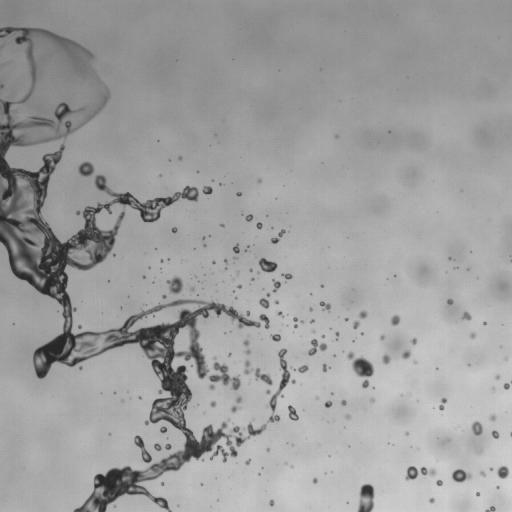droplet: (357, 484, 374, 511), (166, 276, 183, 294), (258, 257, 277, 273), (308, 339, 327, 355), (451, 469, 472, 482), (0, 78, 15, 95), (78, 162, 94, 176), (259, 292, 270, 308), (497, 465, 509, 478), (471, 421, 482, 435), (288, 405, 298, 420), (320, 301, 331, 311), (272, 279, 280, 292), (295, 365, 308, 373), (390, 315, 400, 325), (202, 186, 212, 194), (382, 354, 390, 364), (270, 334, 281, 341), (358, 310, 367, 318), (462, 312, 471, 320), (402, 350, 410, 359), (282, 273, 292, 280), (503, 381, 511, 389), (491, 430, 499, 438), (322, 363, 329, 372), (485, 505, 495, 511), (245, 214, 253, 221), (324, 400, 332, 407), (154, 443, 161, 451), (233, 244, 239, 253), (353, 320, 359, 329), (489, 414, 496, 421), (160, 426, 167, 433), (164, 443, 171, 450), (256, 222, 262, 229), (277, 310, 283, 317), (171, 227, 177, 233), (447, 299, 453, 305), (411, 338, 417, 344), (210, 401, 216, 407), (480, 470, 486, 476), (344, 414, 351, 419), (269, 499, 274, 506), (0, 63, 6, 68), (470, 332, 475, 338), (245, 459, 250, 465), (436, 480, 442, 485), (341, 400, 346, 405), (312, 478, 317, 483), (429, 498, 434, 503), (0, 43, 4, 49), (335, 332, 339, 338), (380, 334, 384, 340), (236, 192, 241, 196), (237, 284, 242, 288), (266, 389, 270, 394), (370, 397, 374, 402), (478, 448, 482, 453), (178, 156, 182, 160), (190, 287, 194, 291), (162, 294, 166, 298), (275, 300, 279, 304), (321, 334, 325, 338), (495, 375, 499, 379), (224, 259, 227, 264), (258, 179, 261, 183), (309, 307, 312, 311), (310, 319, 314, 322), (476, 492, 479, 496), (221, 224, 224, 227), (245, 247, 248, 250), (160, 259, 163, 262), (236, 271, 239, 274), (142, 275, 145, 278), (78, 325, 81, 328), (413, 360, 416, 363), (79, 366, 82, 369), (405, 432, 408, 435), (161, 482, 164, 485), (311, 330, 315, 332), (335, 135, 338, 137), (234, 257, 237, 259), (448, 257, 451, 259), (212, 261, 215, 263), (249, 269, 252, 271), (251, 278, 254, 280), (321, 284, 323, 287), (345, 318, 348, 320), (301, 321, 304, 323), (483, 322, 486, 324), (228, 353, 230, 356), (505, 357, 507, 360), (266, 449, 269, 451), (490, 467, 492, 470), (496, 486, 499, 488), (43, 107, 45, 109), (159, 174, 161, 176), (202, 237, 204, 239), (204, 244, 206, 246), (492, 387, 494, 389), (139, 397, 141, 399), (316, 397, 318, 399)
ligament: (0, 27, 270, 511), (267, 348, 295, 423), (347, 352, 375, 388), (244, 360, 273, 385), (405, 466, 436, 480), (270, 229, 285, 243), (230, 395, 242, 412), (438, 398, 447, 410), (243, 339, 250, 354), (293, 317, 298, 328), (510, 433, 511, 436)
